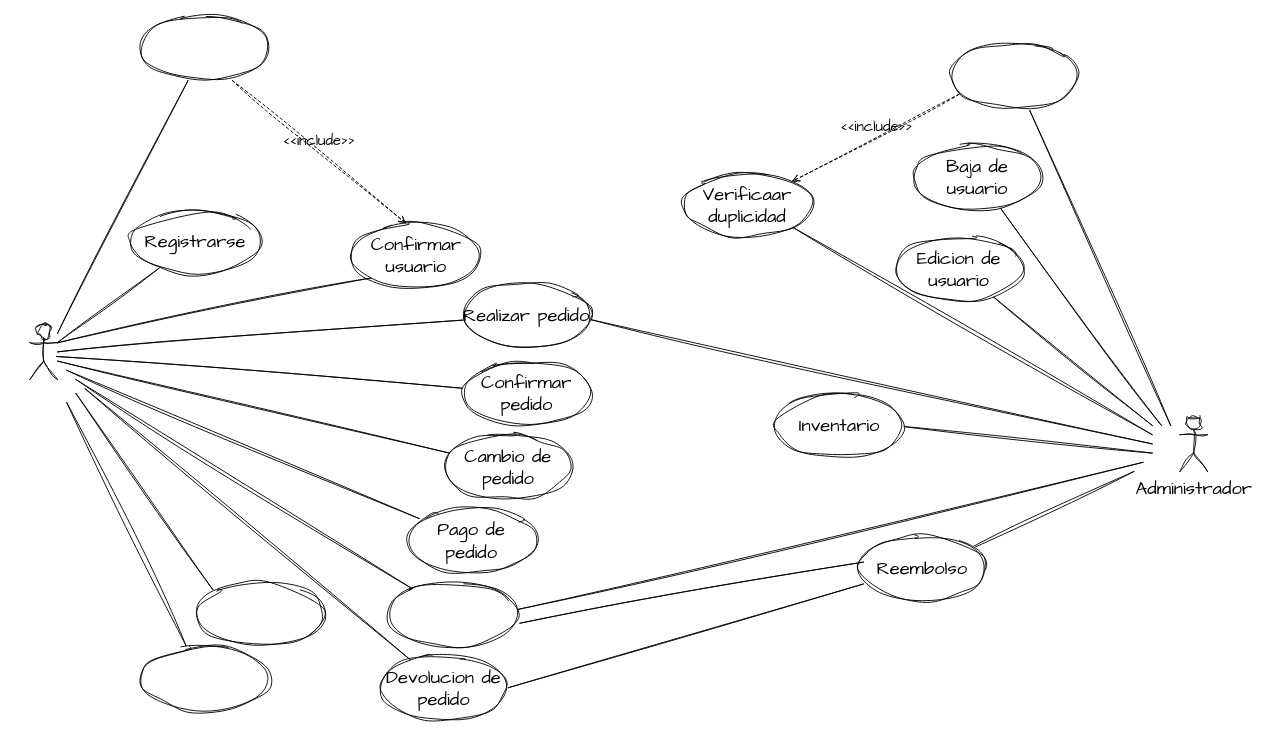
This 1268x736 diagram has some shape labels left out. The centre of each missing label's shape, as x and y in pixels:
Alta de usuario: point (1014, 75)
Cancelacion de pedido: point (453, 613)
Cliente: point (43, 351)
Impresion factura: point (259, 613)
Impresion ticket: point (204, 678)
Iniciar sesion: point (204, 47)
